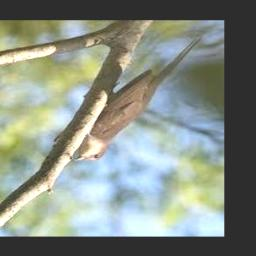Cuckoo: (73, 35, 201, 162)
